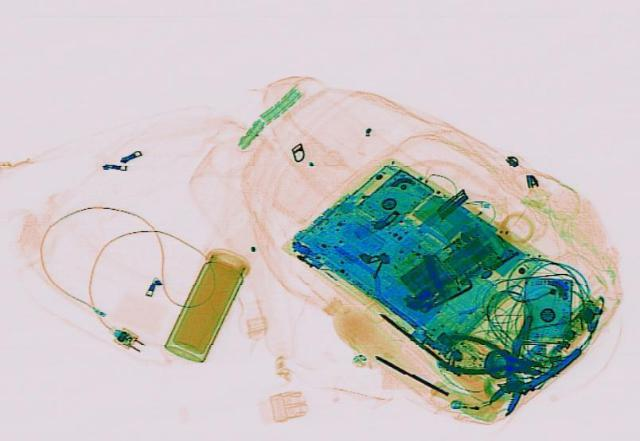Pliers: (462, 314, 594, 422), (432, 330, 552, 386)
